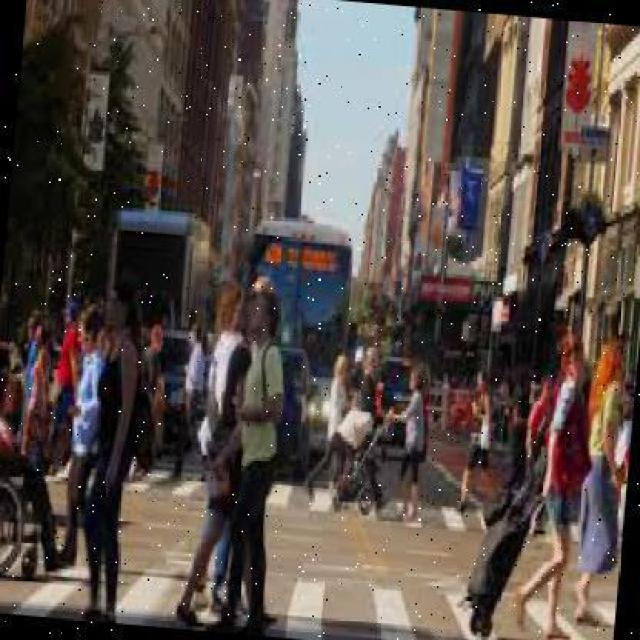Person: (218, 283, 299, 634), (75, 271, 151, 620), (515, 330, 597, 638), (568, 331, 634, 624), (0, 371, 82, 583), (52, 305, 110, 566), (384, 366, 434, 520), (172, 321, 217, 482), (461, 372, 512, 514)
